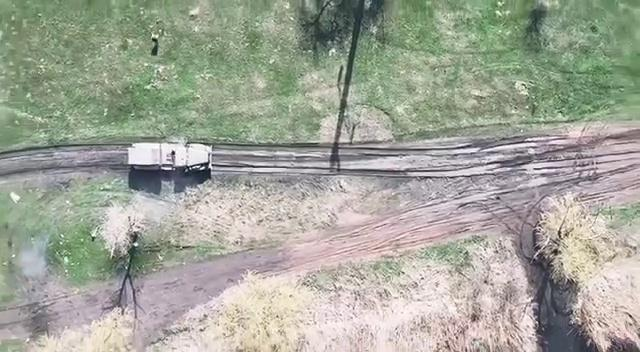person: (150, 33, 160, 44)
vehicle: (127, 142, 215, 175)
